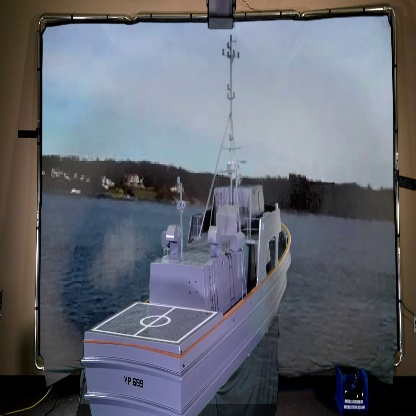YP689: (79, 41, 293, 416)
